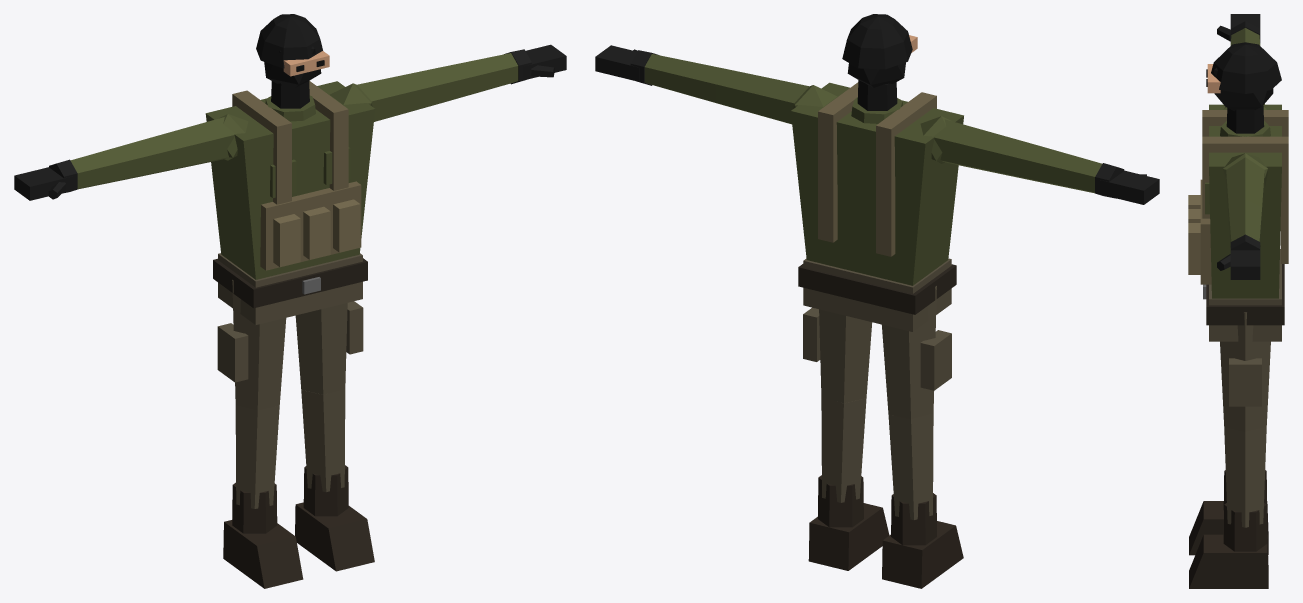
File: Terrorist_Balaclava.glb
The picture shows the model from 3 angles, left to right: view 1: azimuth 30°, elevation 25°; view 2: azimuth 150°, elevation 25°; view 3: azimuth 270°, elevation 25°; orthographic projection. The views are drawn at different scales.
Visible parts, largest first — view 1: Terrorist_Balaclava; view 2: Terrorist_Balaclava; view 3: Terrorist_Balaclava.
Boxes of the visible parts, x1,y1,x2,y2 form: Terrorist_Balaclava: [14, 14, 566, 588]; Terrorist_Balaclava: [595, 14, 1159, 588]; Terrorist_Balaclava: [1188, 14, 1288, 588].
Size of the model in its own units: 1.8 by 1.72 by 0.302.
